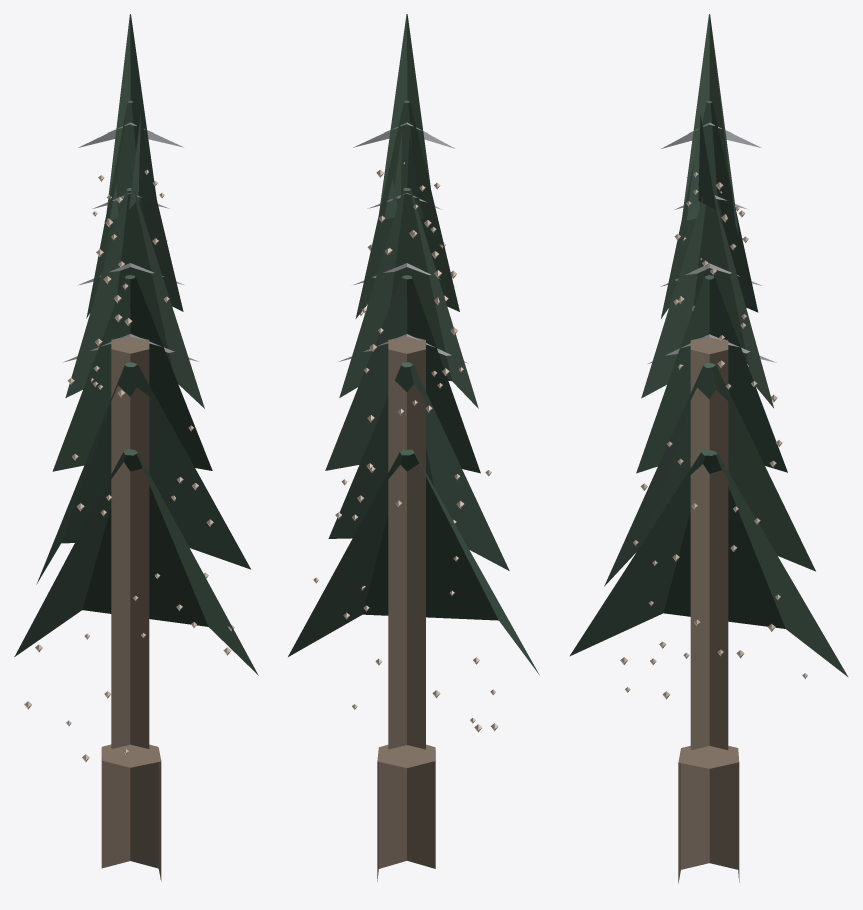
File: shu.lengshan@flowering__winter.glb
3 renders of one model, left to right at view 1: azimuth 30°, elevation 25°; view 2: azimuth 150°, elevation 25°; view 3: azimuth 270°, elevation 25°, orthographic.
Parts seen in each view (by area): view 1: shu.lengshan@flowering__winter; view 2: shu.lengshan@flowering__winter; view 3: shu.lengshan@flowering__winter.
Boxes of the visible parts, x1,y1,x2,y2 form: shu.lengshan@flowering__winter: [14, 14, 258, 881]; shu.lengshan@flowering__winter: [288, 14, 539, 881]; shu.lengshan@flowering__winter: [569, 14, 848, 883].
Bounding box in the file's own units: 5.6 × 21.95 × 6.45.
